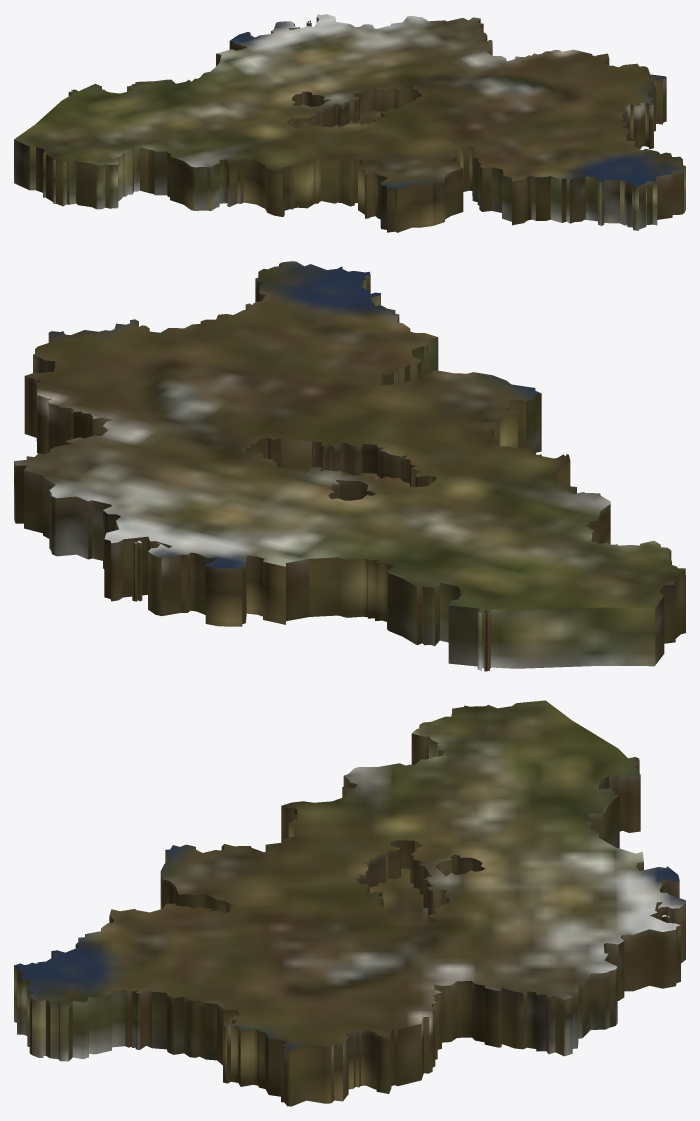
The model's file is EESRFAudit2.glb.
The picture shows the model from 3 angles, top to bottom: view 1: azimuth 30°, elevation 25°; view 2: azimuth 150°, elevation 25°; view 3: azimuth 270°, elevation 25°; orthographic projection. The views are drawn at different scales.
Visible parts, largest first — view 1: BE-VWV; view 2: BE-VWV; view 3: BE-VWV.
Boxes of the visible parts, <box> form: BE-VWV: <box>14,14,685,232</box>; BE-VWV: <box>14,261,685,671</box>; BE-VWV: <box>14,700,685,1106</box>.
Size of the model in its own units: 3.53 by 0.2665 by 2.87.
Materials: 1 (1 with a texture image).
